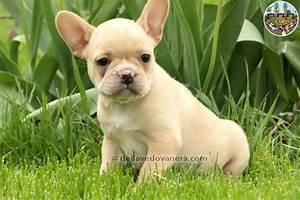dog: (51, 0, 250, 184)
